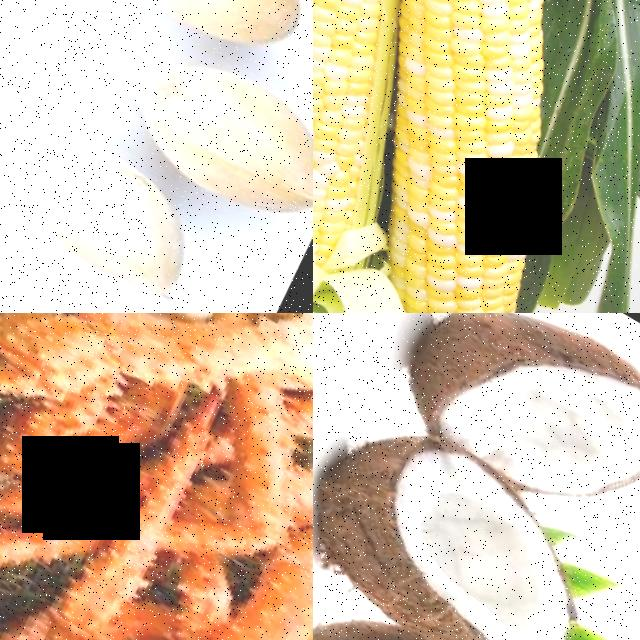coconut: (313, 390, 623, 640), (375, 313, 640, 552), (69, 0, 313, 243), (0, 87, 221, 313), (313, 559, 615, 640), (85, 0, 313, 71)
corn: (313, 60, 602, 313), (328, 0, 640, 127), (313, 0, 444, 270)
crab: (0, 313, 313, 640), (0, 413, 281, 640)
